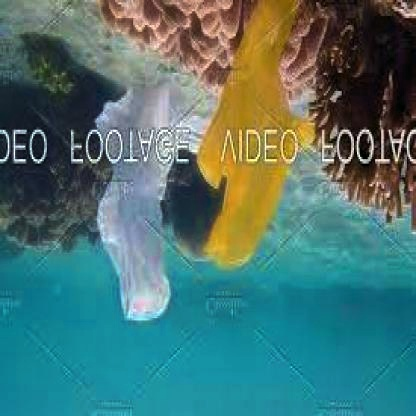pbag: (195, 3, 313, 268), (92, 75, 177, 323)
